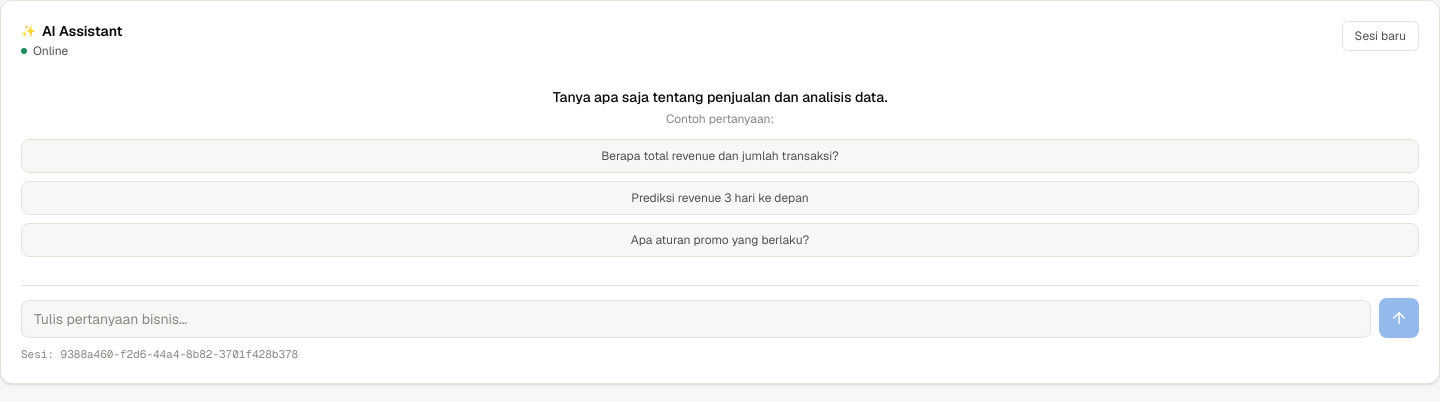
Test: ChatPanel › kirim pesan -> bubble user + jawaban + chip tool + sumber kutipan
Type "Apa aturan promo?" into the field named "Pertanyaan untuk AI assistant" at (696, 319), box [21,300,1371,338]
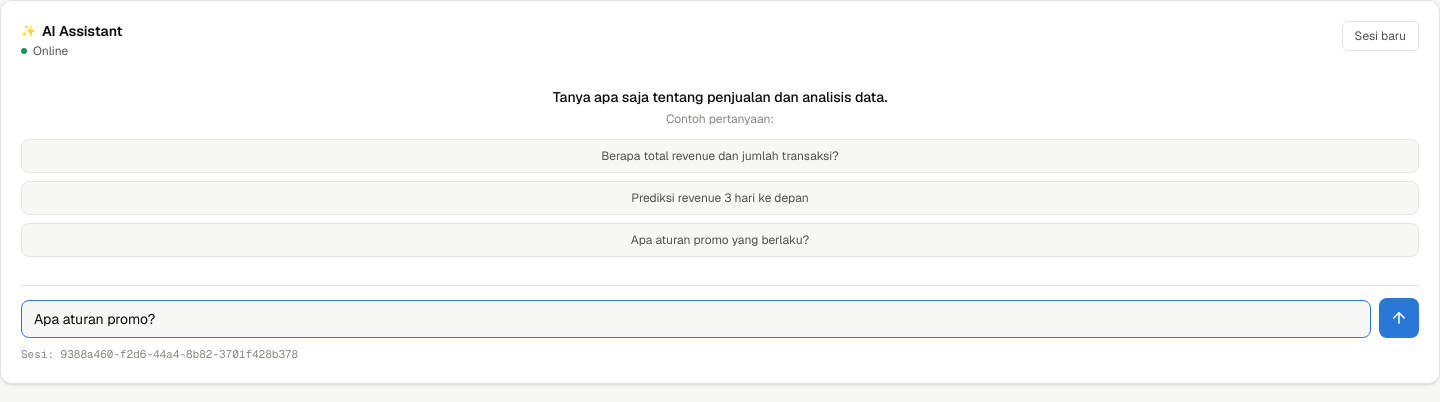
Click the button named "Kirim" at (1399, 318), box [1379,298,1419,338]
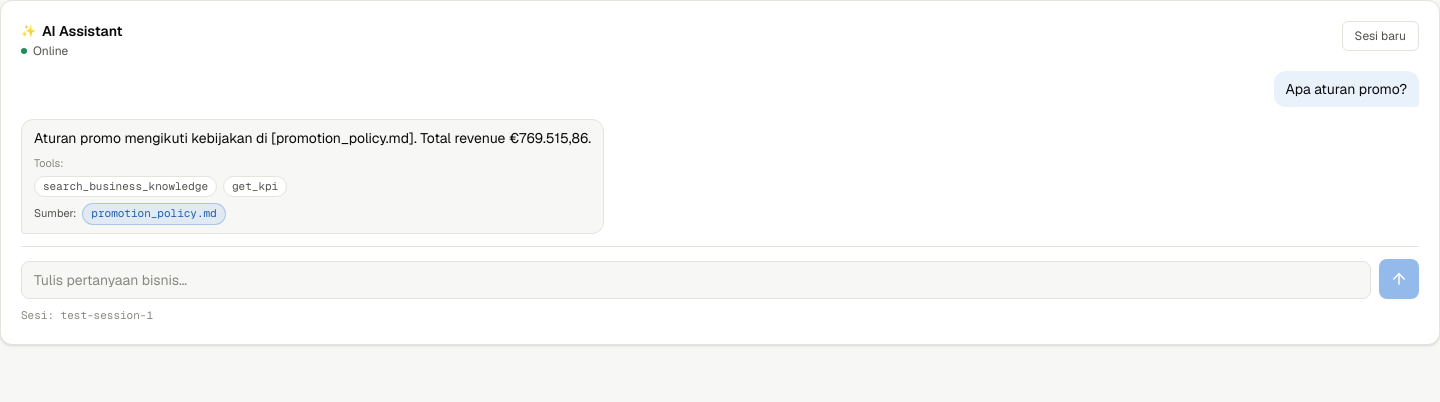
expect the text "Aturan promo mengikuti kebijakan" is shown: met, box [34,129,591,147]
expect the text "Apa aturan promo?" is shown: met, box [1286,79,1407,99]
expect the text "search_business_knowledge" is shown: met, box [34,176,217,197]
